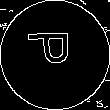P_E: (29, 35, 81, 75)
